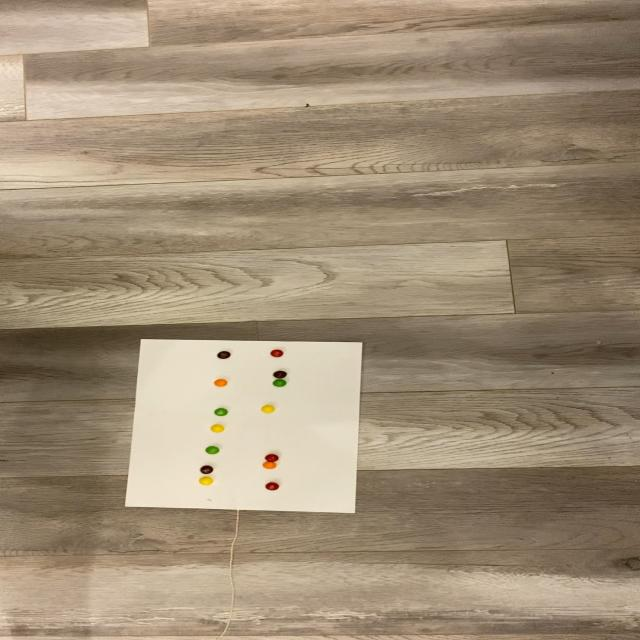smartie: (204, 446, 219, 455), (199, 466, 213, 475), (264, 454, 278, 463), (213, 408, 227, 417), (260, 405, 274, 414), (198, 477, 212, 486), (261, 462, 276, 470), (271, 379, 286, 387), (216, 351, 230, 359), (272, 371, 286, 379), (269, 350, 283, 358), (265, 483, 279, 491), (209, 425, 223, 433), (213, 379, 226, 387)
